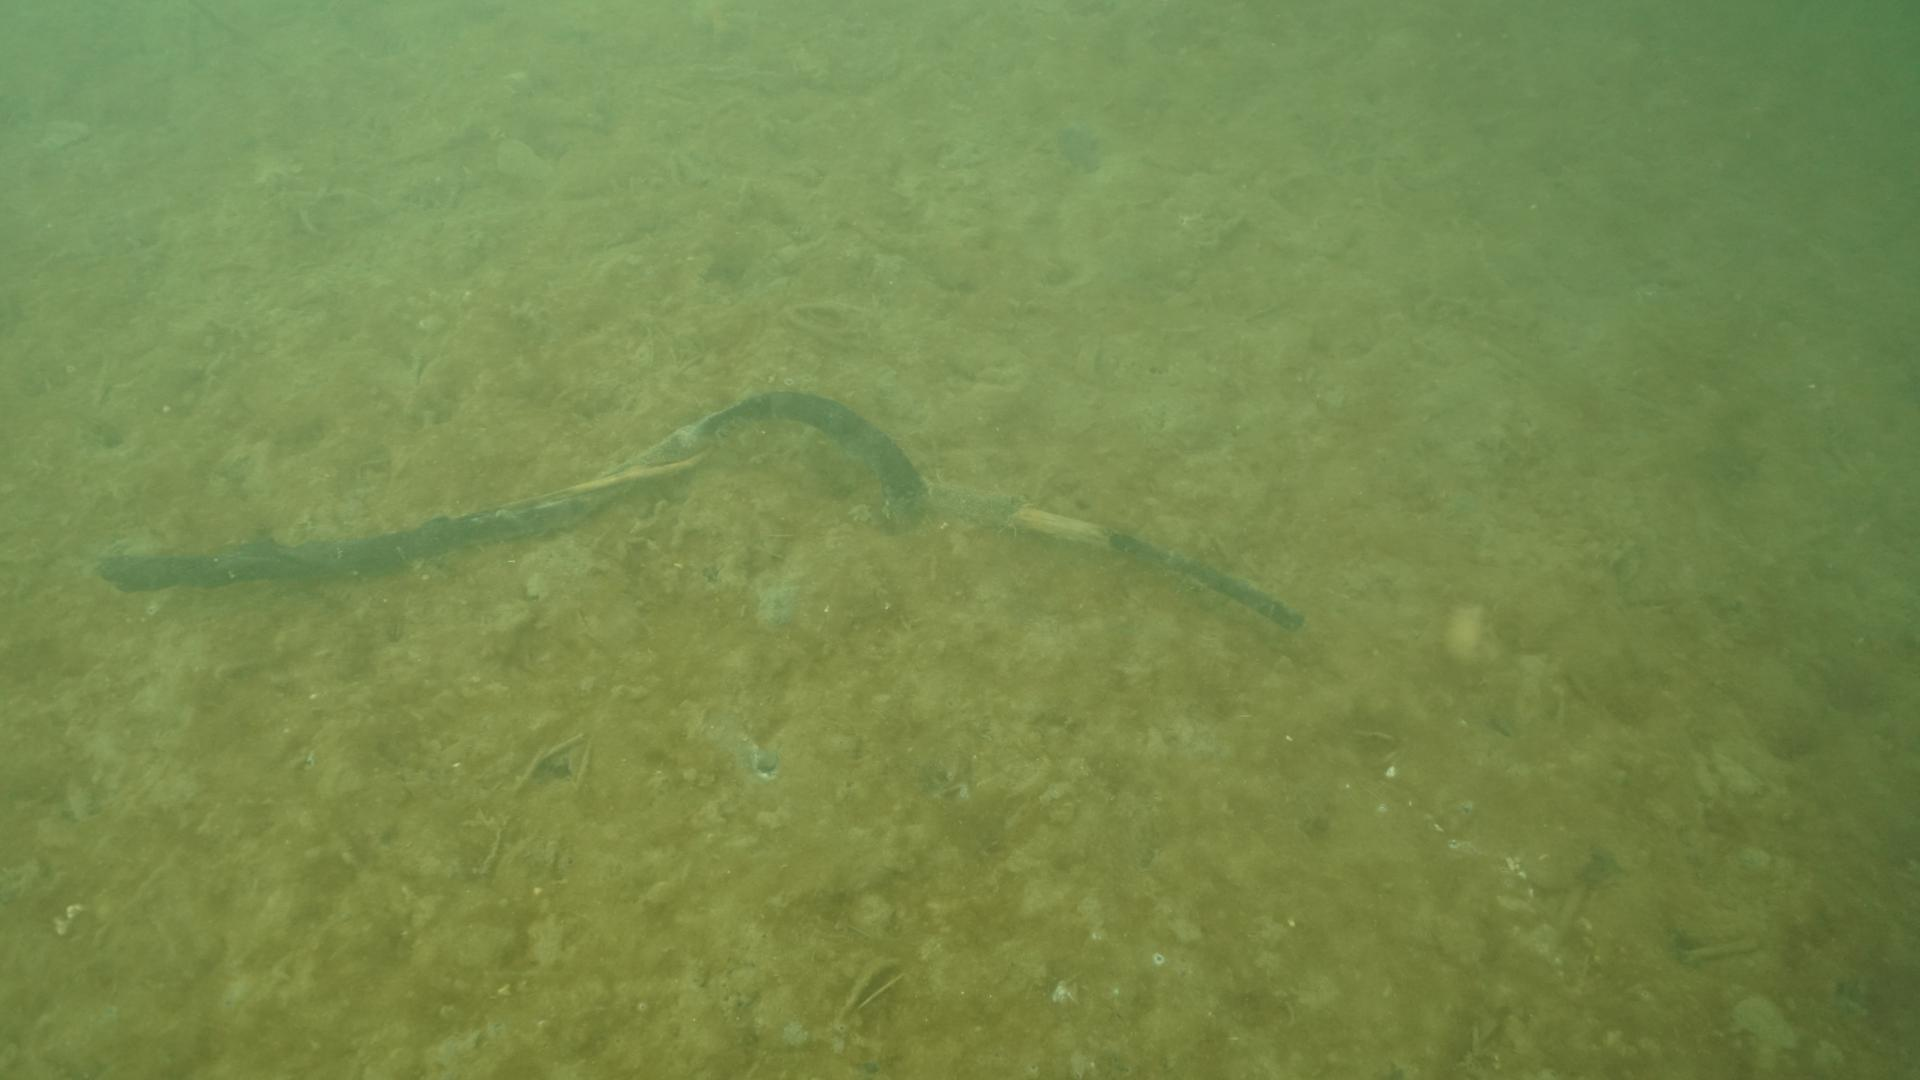wood: (102, 389, 1307, 634)
